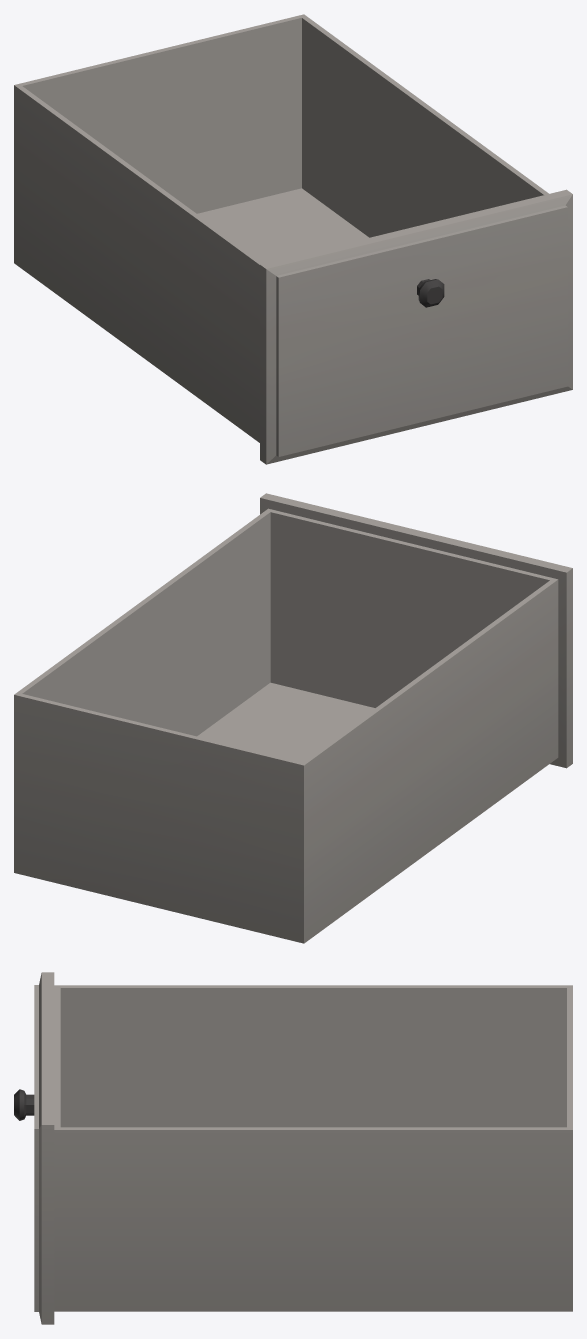
File: Drawer_Unit_50cm_Large.fbx
The picture shows the model from 3 angles, top to bottom: view 1: azimuth 30°, elevation 25°; view 2: azimuth 150°, elevation 25°; view 3: azimuth 270°, elevation 25°; orthographic projection.
Visible parts, largest first — view 1: Drawer_Unit_50cm_Large; view 2: Drawer_Unit_50cm_Large; view 3: Drawer_Unit_50cm_Large.
Boxes of the visible parts, bbox=[...] form: Drawer_Unit_50cm_Large: bbox=[14, 14, 572, 464]; Drawer_Unit_50cm_Large: bbox=[14, 493, 572, 943]; Drawer_Unit_50cm_Large: bbox=[14, 972, 572, 1324].
Size of the model in its own units: 49.19 by 29.97 by 76.11.
